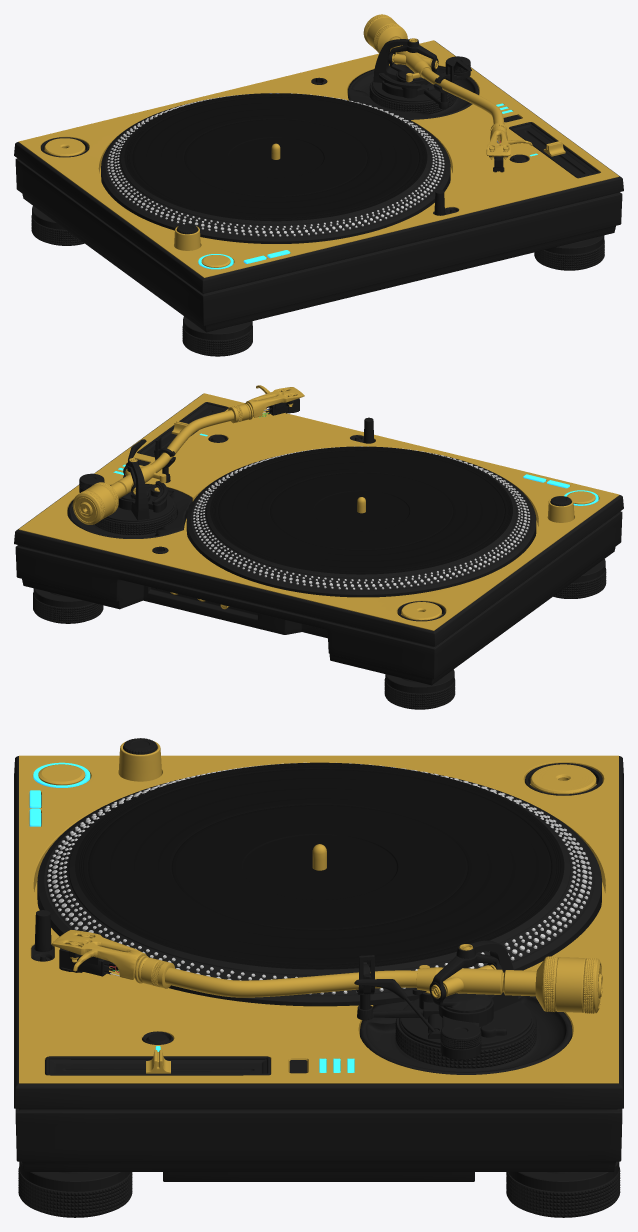
File: turntable.mobile.glb
3 renders of one model, top to bottom at view 1: azimuth 30°, elevation 25°; view 2: azimuth 150°, elevation 25°; view 3: azimuth 270°, elevation 25°, orthographic. The views are drawn at different scales.
Parts seen in each view (by area): view 1: Object_30, Object_8, Object_27, Object_17, Object_31, Object_6, Object_11, Object_25, Object_22, Object_12, Object_21, Object_29 (+7 smaller); view 2: Object_8, Object_30, Object_27, Object_17, Object_31, Object_6, Object_11, Object_25, Object_22, Object_21, Object_29, Object_23 (+4 smaller); view 3: Object_8, Object_30, Object_27, Object_17, Object_31, Object_11, Object_25, Object_6, Object_22, Object_21, Object_12, Object_29 (+12 smaller).
Part boxes in pixels (box(x1,y1,x2,y2)): Object_30: box(14, 41, 623, 332); Object_8: box(124, 93, 427, 221); Object_27: box(18, 40, 619, 277); Object_17: box(101, 98, 450, 243); Object_31: box(31, 206, 604, 356); Object_6: box(107, 93, 444, 236); Object_11: box(348, 64, 478, 120); Object_25: box(389, 37, 504, 124); Object_22: box(44, 38, 438, 250); Object_12: box(512, 124, 597, 176); Object_21: box(363, 14, 407, 53); Object_29: box(369, 80, 456, 113); Object_8: box(210, 446, 512, 574); Object_30: box(14, 394, 623, 685); Object_27: box(18, 393, 619, 630); Object_17: box(186, 451, 536, 597); Object_31: box(33, 559, 606, 709); Object_6: box(193, 446, 530, 589); Object_11: box(67, 484, 192, 538); Object_25: box(79, 410, 234, 516); Object_22: box(125, 458, 574, 620); Object_21: box(72, 482, 118, 524); Object_29: box(94, 499, 176, 534); Object_23: box(244, 385, 304, 419); Object_8: box(75, 762, 564, 969); Object_30: box(14, 756, 623, 1181); Object_27: box(19, 755, 618, 1083); Object_17: box(37, 762, 601, 1006); Object_31: box(18, 1161, 620, 1217); Object_11: box(360, 995, 572, 1074); Object_25: box(165, 965, 602, 998); Object_6: box(47, 762, 591, 994); Object_22: box(118, 741, 596, 998); Object_21: box(535, 956, 601, 1013); Object_12: box(49, 1059, 266, 1073); Object_29: box(395, 1009, 536, 1068).
Size of the model in its own units: 0.455 by 0.1419 by 0.3529.
